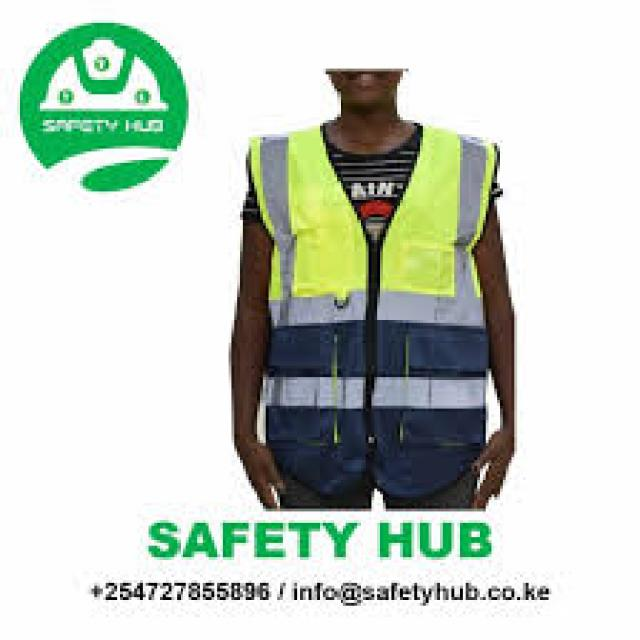Reflective-Jacket: (234, 120, 523, 503)
